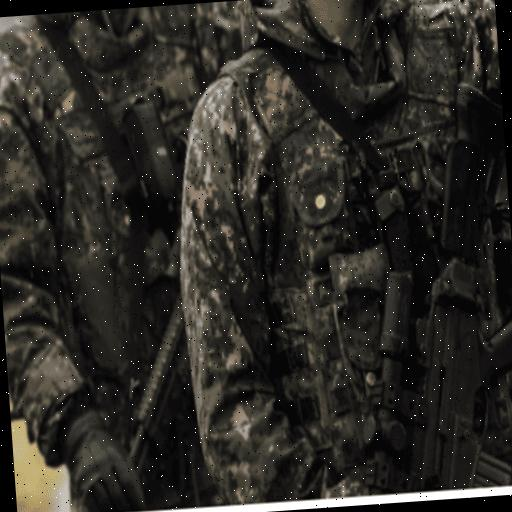korea army: (163, 0, 512, 503), (0, 10, 205, 512)
